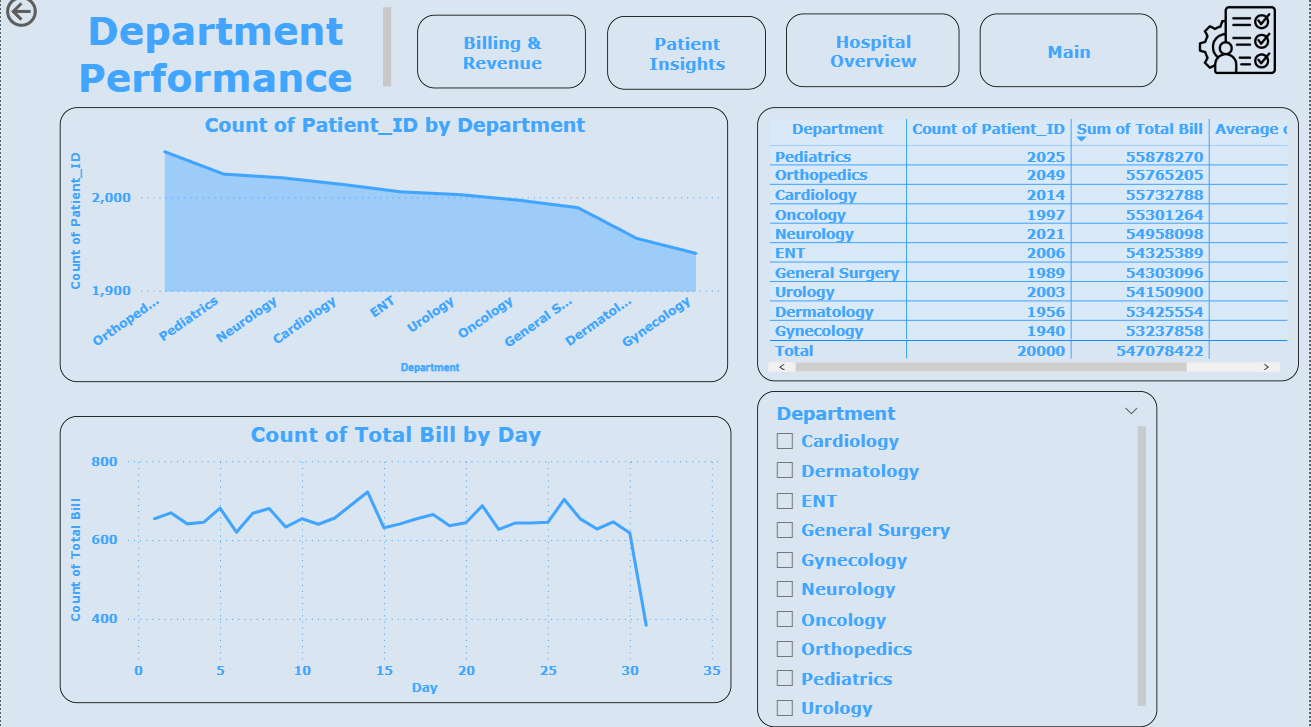

What the dashboard file says about the page in this screenshot:
{"tool":"powerbi","page":{"name":"Department Performance","canvas":[1280,720],"ordinal":2},"visuals":[{"type":"areaChart","fields":{"Category":["Sheet1.Department"],"Y":["CountNonNull(Sheet1.Patient_ID)"]},"box":[57.5,113.7,654,268.9],"z":0},{"type":"lineChart","fields":{"Category":["Sheet1.Admission_Date.Variation.Date Hierarchy.Day"],"Y":["CountNonNull(Sheet1.Total Bill)"]},"box":[57.5,415.6,656.4,281.2],"z":1000},{"type":"tableEx","fields":{"Values":["Sheet1.Department","CountNonNull(Sheet1.Patient_ID)","Sum(Sheet1.Total Bill)","Avg(Sheet1.Total Bill)"]},"box":[739.6,113.7,529.3,267.7],"z":2000},{"type":"actionButton","box":[0,0,100,40],"z":3000},{"type":"slicer","fields":{"Values":["Sheet1.Department"]},"box":[739.6,391.2,391.2,328.8],"z":4000},{"type":"textbox","box":[41.6,11,344.7,94.1],"z":5000},{"type":"image","box":[1149.1,0,119.8,96.6],"z":7000},{"type":"actionButton","title":"department Performance","box":[767.7,22,169.9,72.1],"z":8000},{"type":"actionButton","title":"department Performance","box":[407.1,23.2,165,72.1],"z":9000},{"type":"actionButton","title":"department Performance","box":[592.9,24.4,155.2,72.1],"z":10000},{"type":"actionButton","title":"department Performance","box":[957.1,22,173.6,72.1],"z":11000}]}

Visuals, with their boxes in screenshot pixels (x1, y1, x2, y2), scaled from the page's 1280x720 canvas onto the 1311x727 screenshot:
areaChart - Sheet1.Department x CountNonNull(Sheet1.Patient_ID): {"x1": 59, "y1": 115, "x2": 729, "y2": 386}
lineChart - Sheet1.Admission_Date.Variation.Date Hierarchy.Day x CountNonNull(Sheet1.Total Bill): {"x1": 59, "y1": 420, "x2": 731, "y2": 704}
tableEx - Sheet1.Department x CountNonNull(Sheet1.Patient_ID): {"x1": 758, "y1": 115, "x2": 1300, "y2": 385}
actionButton: {"x1": 0, "y1": 0, "x2": 102, "y2": 40}
slicer - Sheet1.Department: {"x1": 758, "y1": 395, "x2": 1158, "y2": 726}
textbox: {"x1": 43, "y1": 11, "x2": 396, "y2": 106}
image: {"x1": 1177, "y1": 0, "x2": 1300, "y2": 98}
"department Performance" actionButton: {"x1": 786, "y1": 22, "x2": 960, "y2": 95}
"department Performance" actionButton: {"x1": 417, "y1": 23, "x2": 586, "y2": 96}
"department Performance" actionButton: {"x1": 607, "y1": 25, "x2": 766, "y2": 97}
"department Performance" actionButton: {"x1": 980, "y1": 22, "x2": 1158, "y2": 95}
